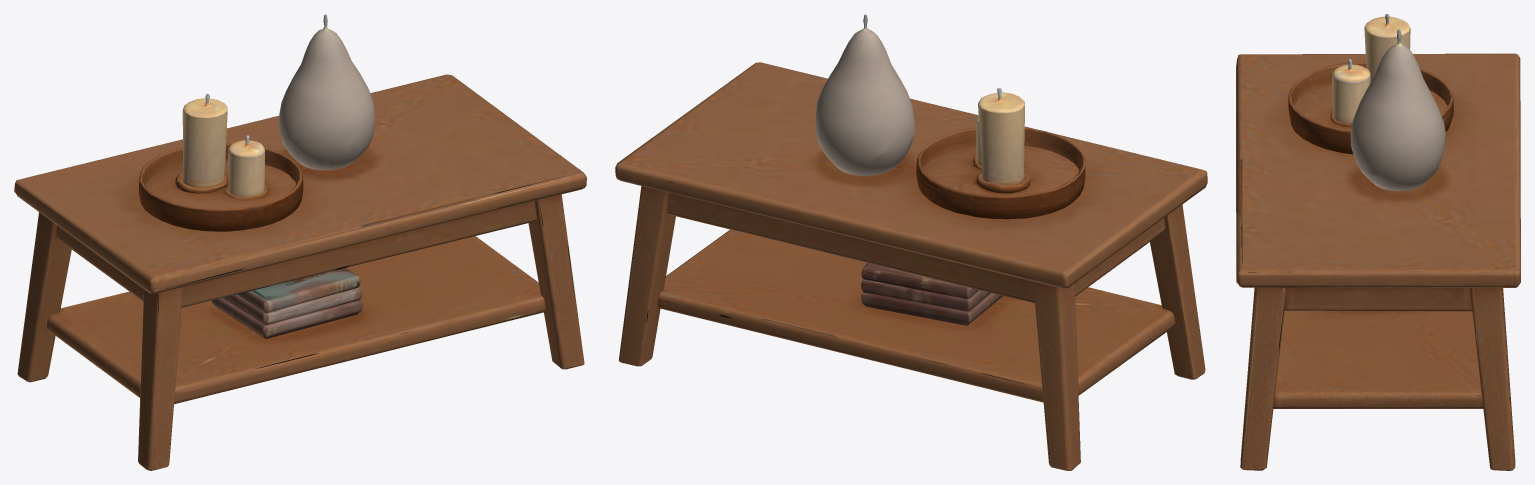
The model's file is coffee_table.glb.
The picture shows the model from 3 angles, left to right: view 1: azimuth 30°, elevation 25°; view 2: azimuth 150°, elevation 25°; view 3: azimuth 270°, elevation 25°; orthographic projection. The views are drawn at different scales.
Visible parts, largest first — view 1: geometry_0; view 2: geometry_0; view 3: geometry_0.
Part boxes in pixels (x1=…): geometry_0: x1=14, y1=14, x2=586, y2=470; geometry_0: x1=615, y1=14, x2=1207, y2=470; geometry_0: x1=1236, y1=14, x2=1520, y2=470.
Size of the model in its own units: 1 by 0.7442 by 0.5485.
Materials: 1 (1 with a texture image).
